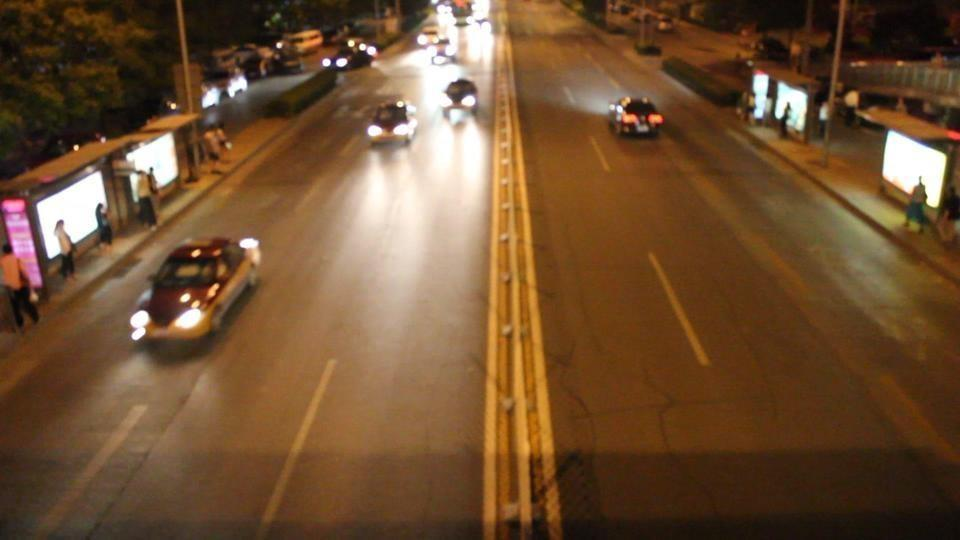car: (128, 237, 263, 348), (365, 97, 420, 150), (607, 95, 664, 139), (321, 40, 377, 71), (442, 77, 480, 120), (280, 28, 324, 57), (752, 35, 791, 63), (450, 0, 474, 19)
